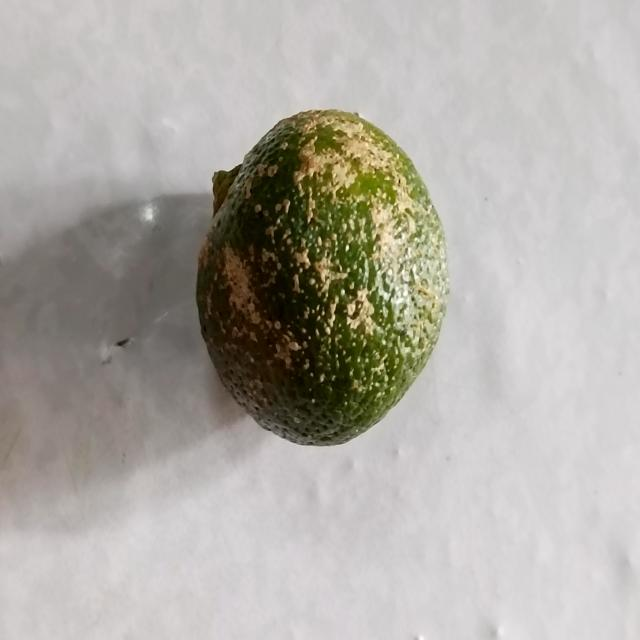scab: (194, 99, 458, 449)
